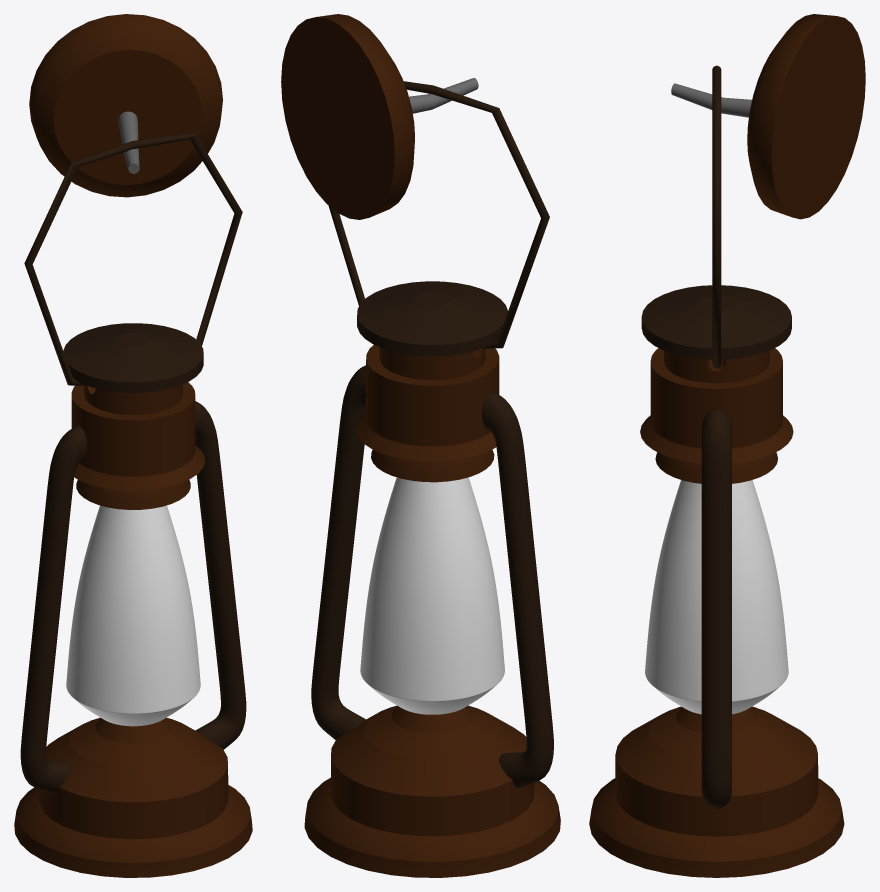
Rendered from Lampara.fbx.
3 renders of one model, left to right at view 1: azimuth 30°, elevation 25°; view 2: azimuth 150°, elevation 25°; view 3: azimuth 270°, elevation 25°, orthographic. The views are drawn at different scales.
Visible parts, largest first — view 1: Cylinder, Cylinder.003, Cylinder.006, Cylinder.002, Cylinder.001, Cylinder.005, Cylinder.004; view 2: Cylinder, Cylinder.006, Cylinder.002, Cylinder.001, Cylinder.003, Cylinder.005, Cylinder.004; view 3: Cylinder, Cylinder.002, Cylinder.006, Cylinder.003, Cylinder.001, Cylinder.005, Cylinder.004.
Boxes of the visible parts, x1,y1,x2,y2 form: Cylinder: [14, 717, 252, 877]; Cylinder.003: [29, 14, 222, 197]; Cylinder.006: [66, 505, 200, 726]; Cylinder.002: [63, 323, 204, 509]; Cylinder.001: [20, 401, 246, 794]; Cylinder.005: [24, 132, 242, 385]; Cylinder.004: [118, 111, 139, 173]; Cylinder: [304, 705, 560, 877]; Cylinder.006: [360, 477, 504, 714]; Cylinder.002: [355, 281, 507, 482]; Cylinder.001: [311, 365, 553, 787]; Cylinder.003: [281, 14, 414, 219]; Cylinder.005: [328, 81, 549, 348]; Cylinder.004: [409, 78, 478, 113]; Cylinder: [589, 706, 844, 877]; Cylinder.002: [640, 285, 793, 483]; Cylinder.006: [645, 480, 788, 714]; Cylinder.003: [747, 14, 865, 219]; Cylinder.001: [701, 410, 731, 808]; Cylinder.005: [712, 65, 721, 368]; Cylinder.004: [671, 83, 751, 117].
Bounding box in the file's own units: 140 × 456 × 139.
